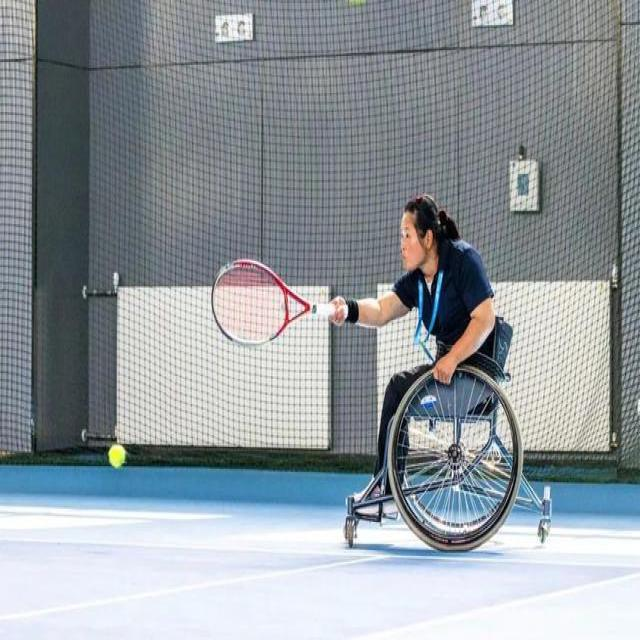wheelchairs: (327, 301, 561, 578)
